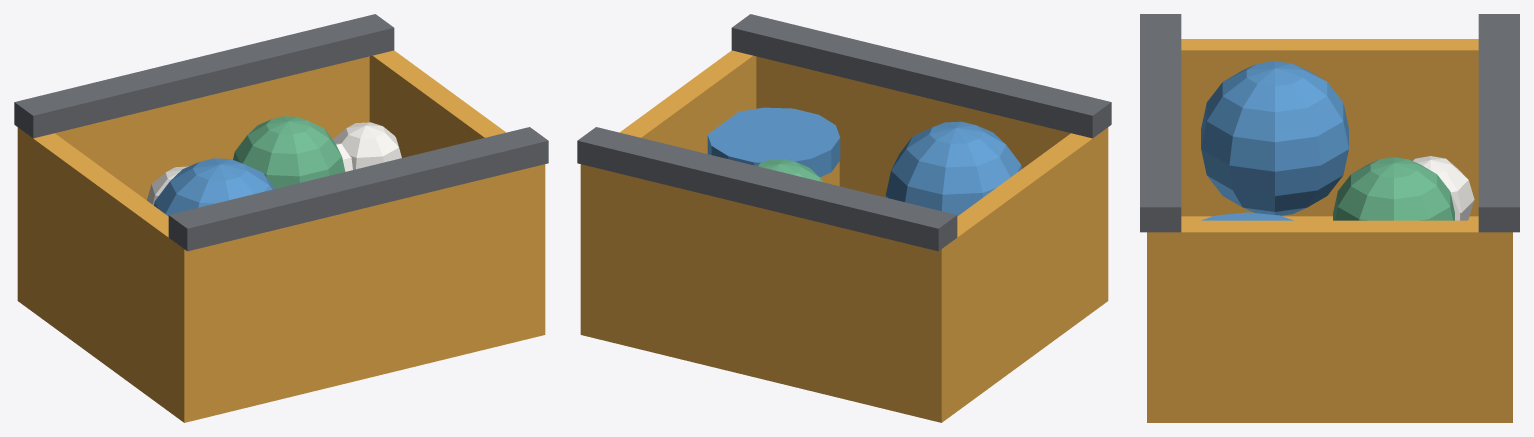
Rendered from boarding-kennels-and-cattery-boarding-kennels-and-catt-aaa23be3__35544.glb.
The picture shows the model from 3 angles, left to right: view 1: azimuth 30°, elevation 25°; view 2: azimuth 150°, elevation 25°; view 3: azimuth 270°, elevation 25°; orthographic projection. The views are drawn at different scales.
Parts seen in each view (by area): view 1: boarding-kennels-and-cattery-toy-basket; view 2: boarding-kennels-and-cattery-toy-basket; view 3: boarding-kennels-and-cattery-toy-basket.
Part boxes in pixels (x1,y1,x2,y2): boarding-kennels-and-cattery-toy-basket: (14,14,548,422); boarding-kennels-and-cattery-toy-basket: (577,14,1111,422); boarding-kennels-and-cattery-toy-basket: (1140,14,1519,422).
Bounding box in the file's own units: 0.5 × 0.26 × 0.415.
